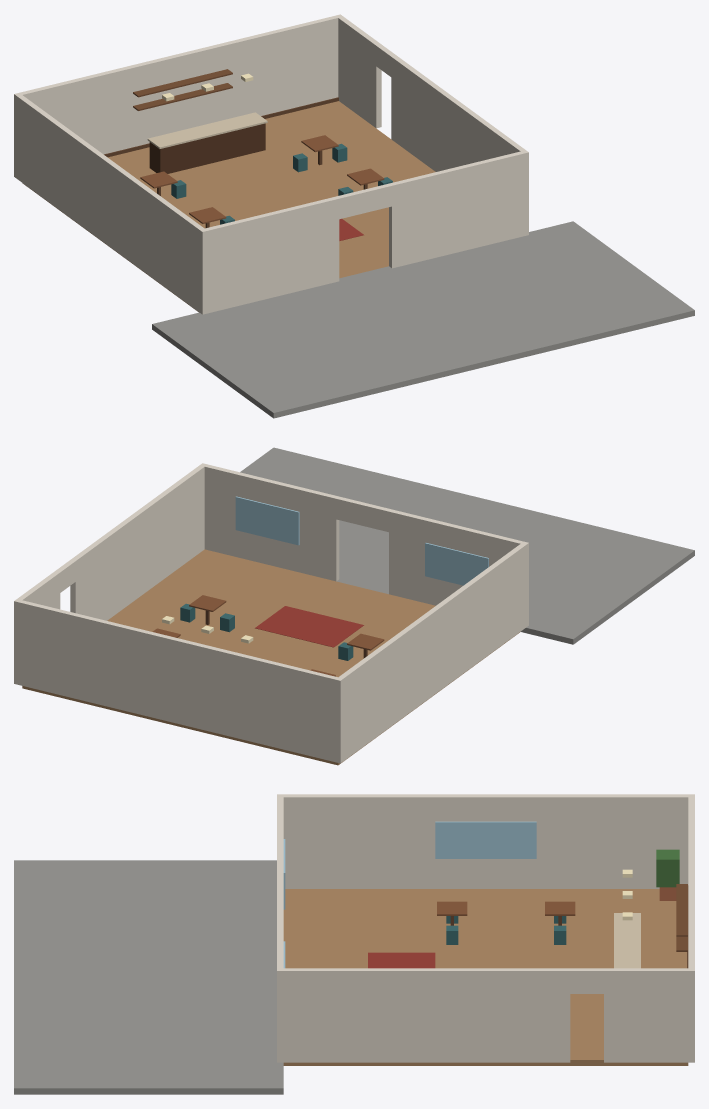
File: cafe.glb
3 views of the same model, one above another, from view 1: azimuth 30°, elevation 25°; view 2: azimuth 150°, elevation 25°; view 3: azimuth 270°, elevation 25° (orthographic). The views are drawn at different scales.
Visible parts, largest first — view 1: pavement, wall-north, floor, wall-west, wall-south-a, wall-south-b, wall-east-b, wall-east-a, counter, counter-top, wall-south-lintel, shelf-2 (+1 smaller); view 2: wall-north, pavement, floor, wall-west, wall-east-b, wall-south-b, wall-south-a, rug, window-south-b, window-south-a, wall-south-lintel, wall-east-a; view 3: pavement, wall-west, floor, wall-east-b, wall-east-a, window-west, wall-north, counter-top, rug, plant, wall-south-b, wall-east-lintel (+2 smaller).
Part boxes in pixels (x1,y1,x2,y2): pavement: [152, 221, 694, 418]; wall-north: [14, 14, 342, 175]; floor: [22, 101, 435, 311]; wall-west: [14, 93, 207, 313]; wall-south-a: [199, 196, 339, 314]; wall-south-b: [389, 150, 528, 268]; wall-east-b: [391, 55, 526, 171]; wall-east-a: [337, 16, 381, 128]; counter: [149, 123, 265, 173]; counter-top: [147, 112, 267, 148]; wall-south-lintel: [337, 183, 391, 219]; shelf-2: [133, 69, 232, 97]; wall-north: [14, 599, 343, 763]; pavement: [240, 447, 694, 644]; floor: [22, 549, 519, 765]; wall-west: [335, 541, 528, 761]; wall-east-b: [70, 464, 205, 620]; wall-south-b: [201, 463, 339, 581]; wall-south-a: [389, 509, 523, 605]; rug: [255, 606, 363, 647]; window-south-b: [235, 496, 299, 545]; window-south-a: [425, 543, 488, 585]; wall-south-lintel: [336, 496, 391, 532]; wall-east-a: [17, 571, 60, 609]; pavement: [14, 860, 283, 1094]; wall-west: [277, 794, 688, 888]; floor: [283, 889, 688, 1065]; wall-east-b: [280, 968, 570, 1062]; wall-east-a: [604, 968, 691, 1062]; window-west: [435, 821, 536, 858]; wall-north: [688, 794, 694, 1062]; counter-top: [614, 913, 640, 968]; rug: [368, 952, 435, 968]; plant: [656, 849, 679, 887]; wall-south-b: [277, 897, 283, 1062]; wall-east-lintel: [570, 968, 603, 993].
Size of the model in its own units: 16 by 3.2 by 20.2.
